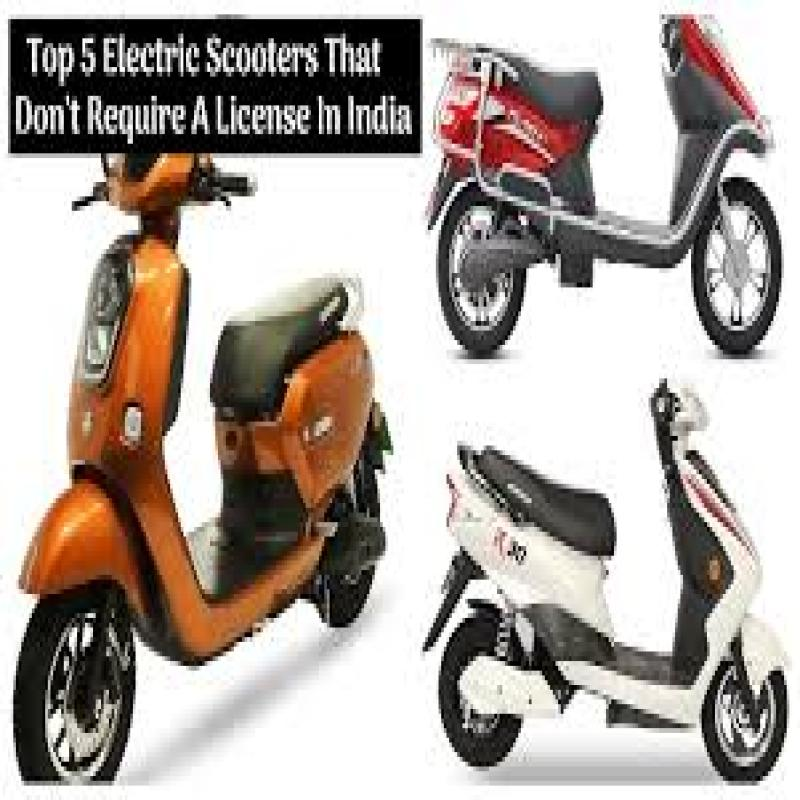bike: (15, 151, 393, 766), (436, 360, 794, 789), (427, 0, 787, 342)
